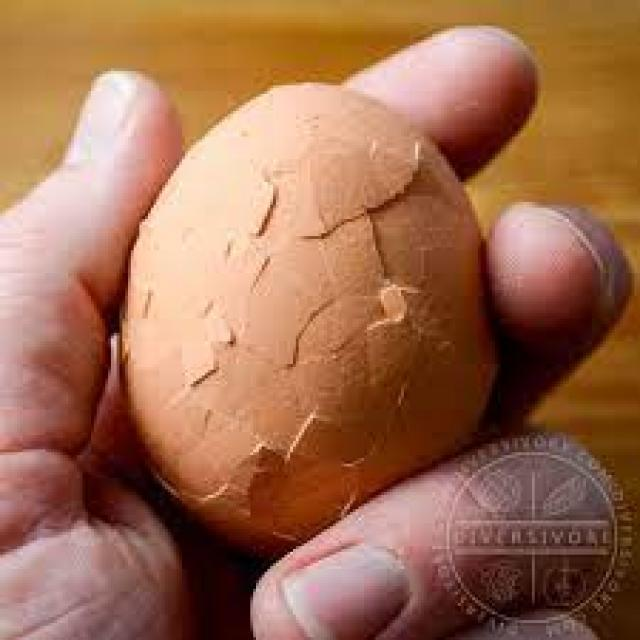biodegradable: (122, 82, 494, 554)
